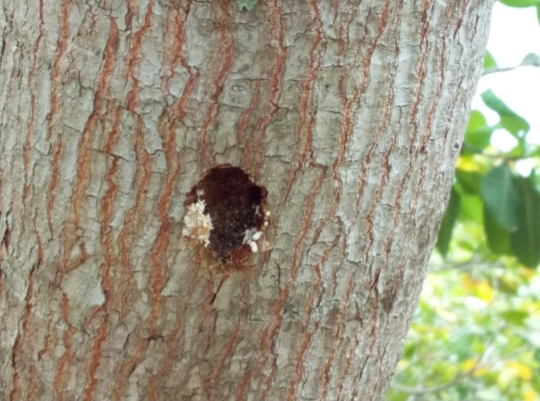Apate terebrans: (165, 157, 283, 273)
